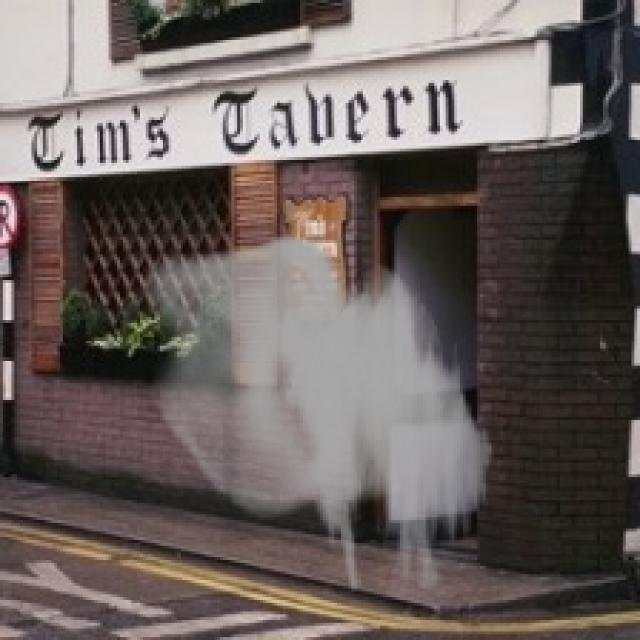smoke: (143, 234, 497, 592)
